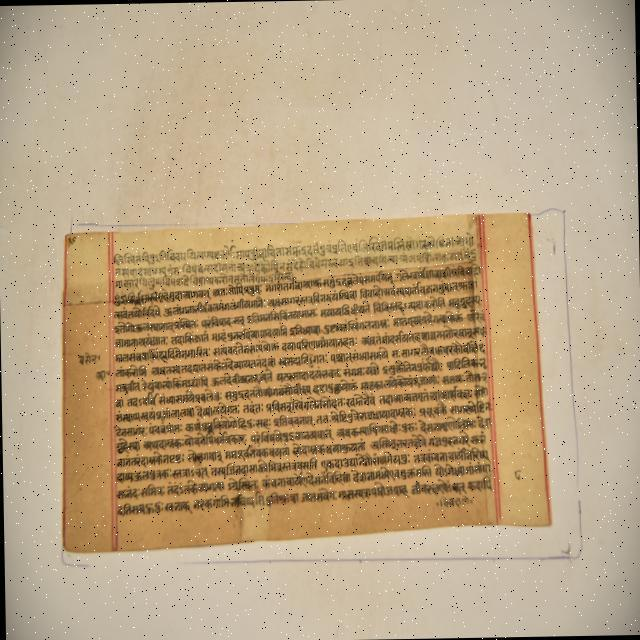text_paragraph: (60, 210, 552, 550)
